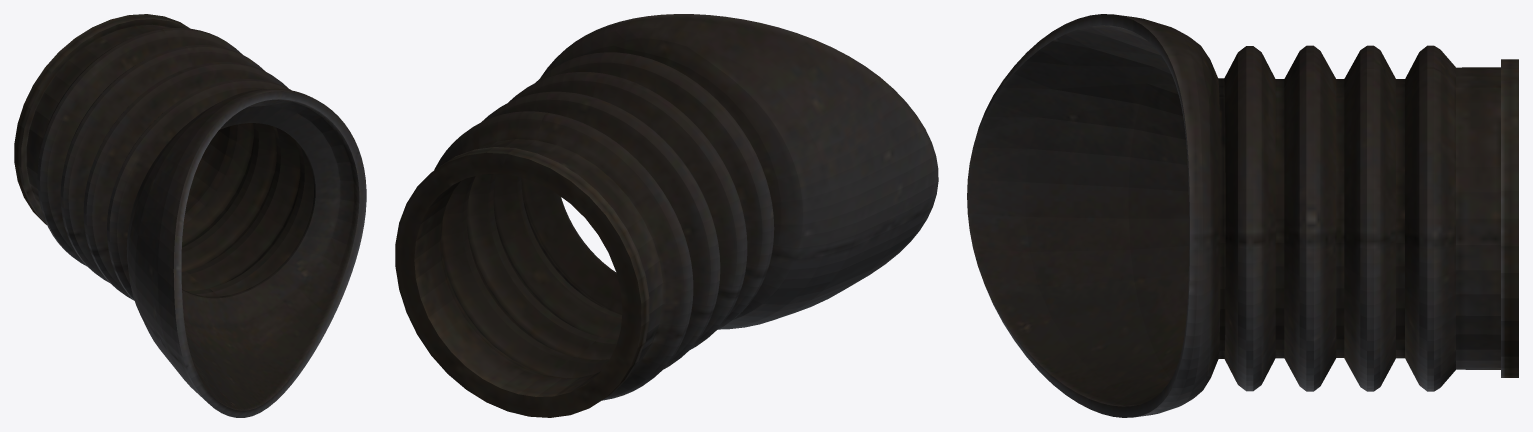
3 renders of one model, left to right at view 1: azimuth 30°, elevation 25°; view 2: azimuth 150°, elevation 25°; view 3: azimuth 270°, elevation 25°, orthographic. The views are drawn at different scales.
Parts seen in each view (by area): view 1: TW_5b3cbc235acfc4001863ac44_PZ_Import; view 2: TW_5b3cbc235acfc4001863ac44_PZ_Import; view 3: TW_5b3cbc235acfc4001863ac44_PZ_Import.
Part boxes in pixels (bbox=[...]): TW_5b3cbc235acfc4001863ac44_PZ_Import: bbox=[14, 14, 366, 417]; TW_5b3cbc235acfc4001863ac44_PZ_Import: bbox=[395, 14, 938, 417]; TW_5b3cbc235acfc4001863ac44_PZ_Import: bbox=[967, 14, 1518, 417].
Bounding box in the file's own units: 0.0347 × 0.0468 × 0.0342.
1 material, 1 textured.
